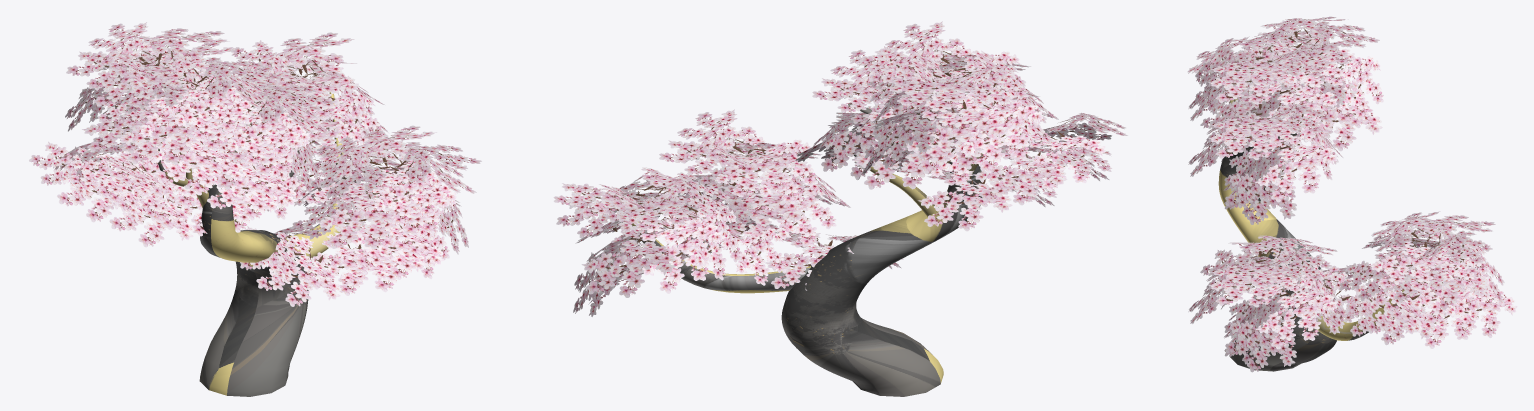
The model's file is ARBRECERISIER.fbx.
The picture shows the model from 3 angles, left to right: view 1: azimuth 30°, elevation 25°; view 2: azimuth 150°, elevation 25°; view 3: azimuth 270°, elevation 25°; orthographic projection. The views are drawn at different scales.
Visible parts, largest first — view 1: arbre_cerisier_2_plane; view 2: arbre_cerisier_2_plane; view 3: arbre_cerisier_2_plane.
Part boxes in pixels (x1,y1,x2,y2): arbre_cerisier_2_plane: (29, 22, 481, 396); arbre_cerisier_2_plane: (553, 21, 1127, 396); arbre_cerisier_2_plane: (1187, 16, 1517, 372).
Size of the model in its own units: 66.66 by 46.17 by 50.54.
